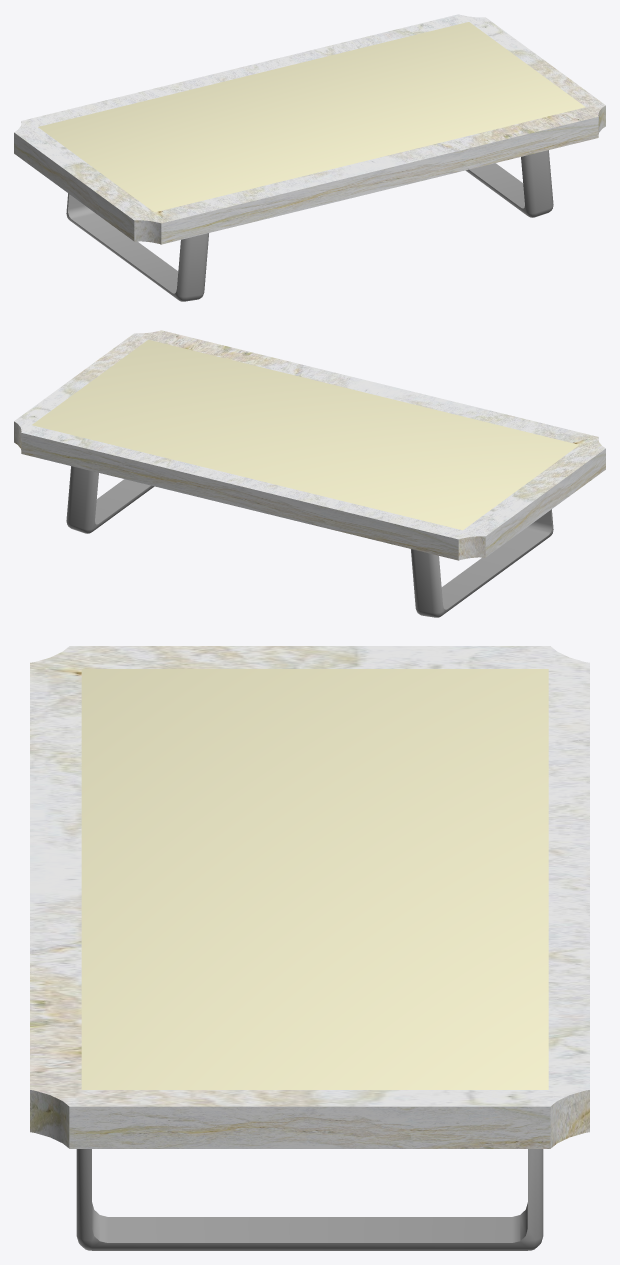
The model's file is custable01.FBX.
The picture shows the model from 3 angles, top to bottom: view 1: azimuth 30°, elevation 25°; view 2: azimuth 150°, elevation 25°; view 3: azimuth 270°, elevation 25°; orthographic projection. The views are drawn at different scales.
Visible parts, largest first — view 1: daskcen, daskout, leg2, leg1; view 2: daskcen, daskout, leg2, leg1; view 3: daskcen, daskout, leg1.
Boxes of the visible parts, box(x1,y1,x2,y2) form: daskcen: box(38, 22, 585, 212); daskout: box(14, 14, 605, 244); leg2: box(66, 193, 208, 301); leg1: box(465, 150, 553, 217); daskcen: box(32, 339, 578, 530); daskout: box(14, 330, 605, 560); leg2: box(411, 509, 553, 617); leg1: box(66, 466, 154, 533); daskcen: box(81, 669, 548, 1089); daskout: box(30, 646, 589, 1148); leg1: box(76, 1149, 543, 1250).
Bounding box in the file's own units: 0.00217 × 0.000438 × 0.00112.
3 materials, 1 textured.
